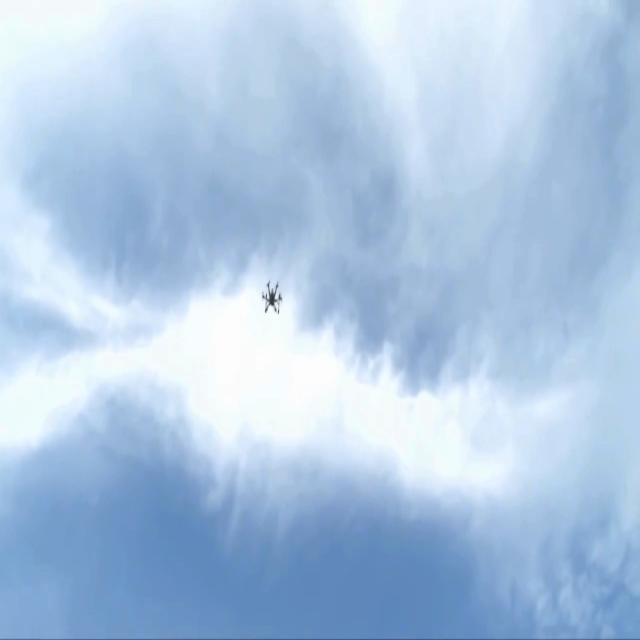drone: (261, 279, 282, 314)
